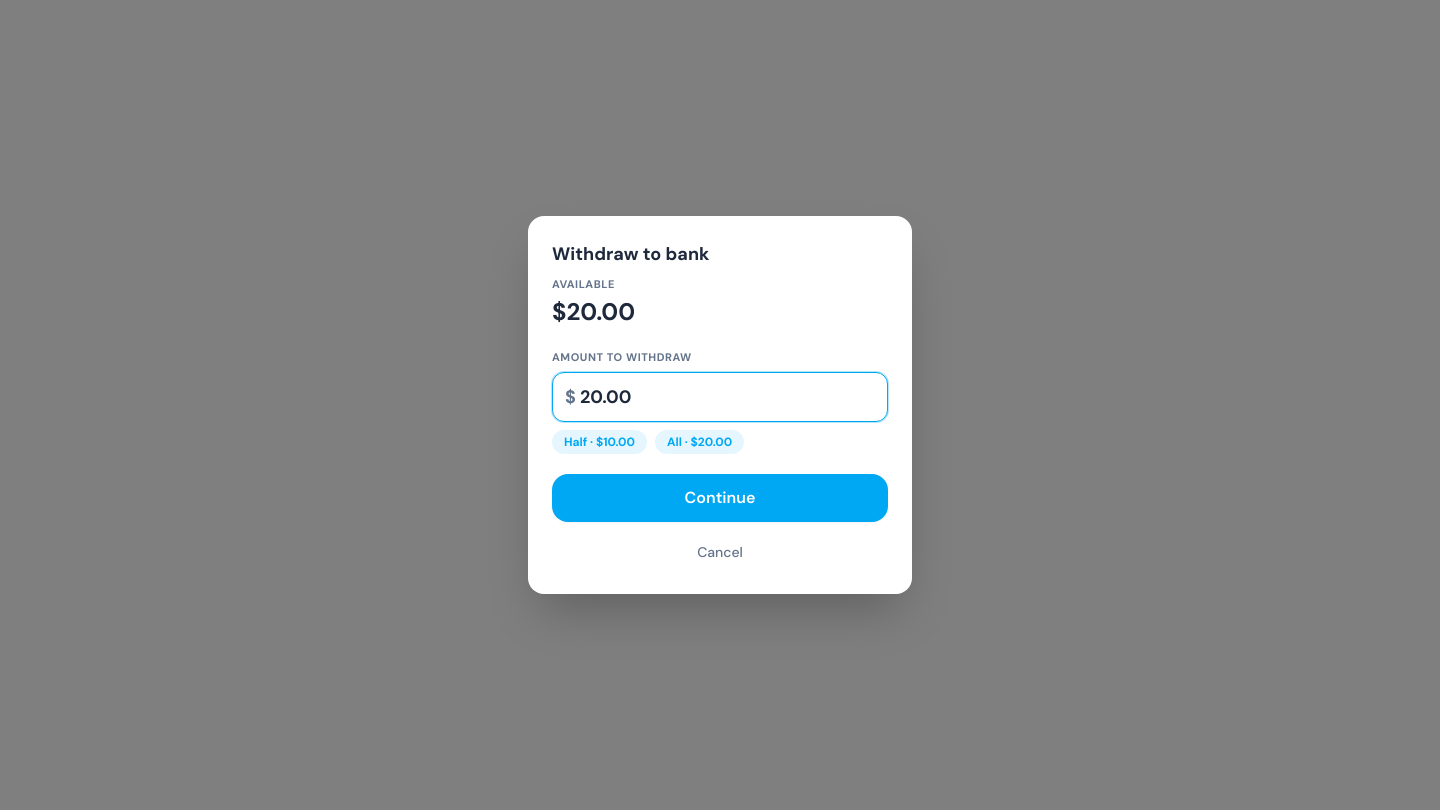
WithdrawSheet (F5) › Cancel inside the confirm dialog leaves the sheet open without firing /withdraw
Click the button with test id "withdraw-sheet-confirm".
click(720, 498)  # box [552,474,888,522]
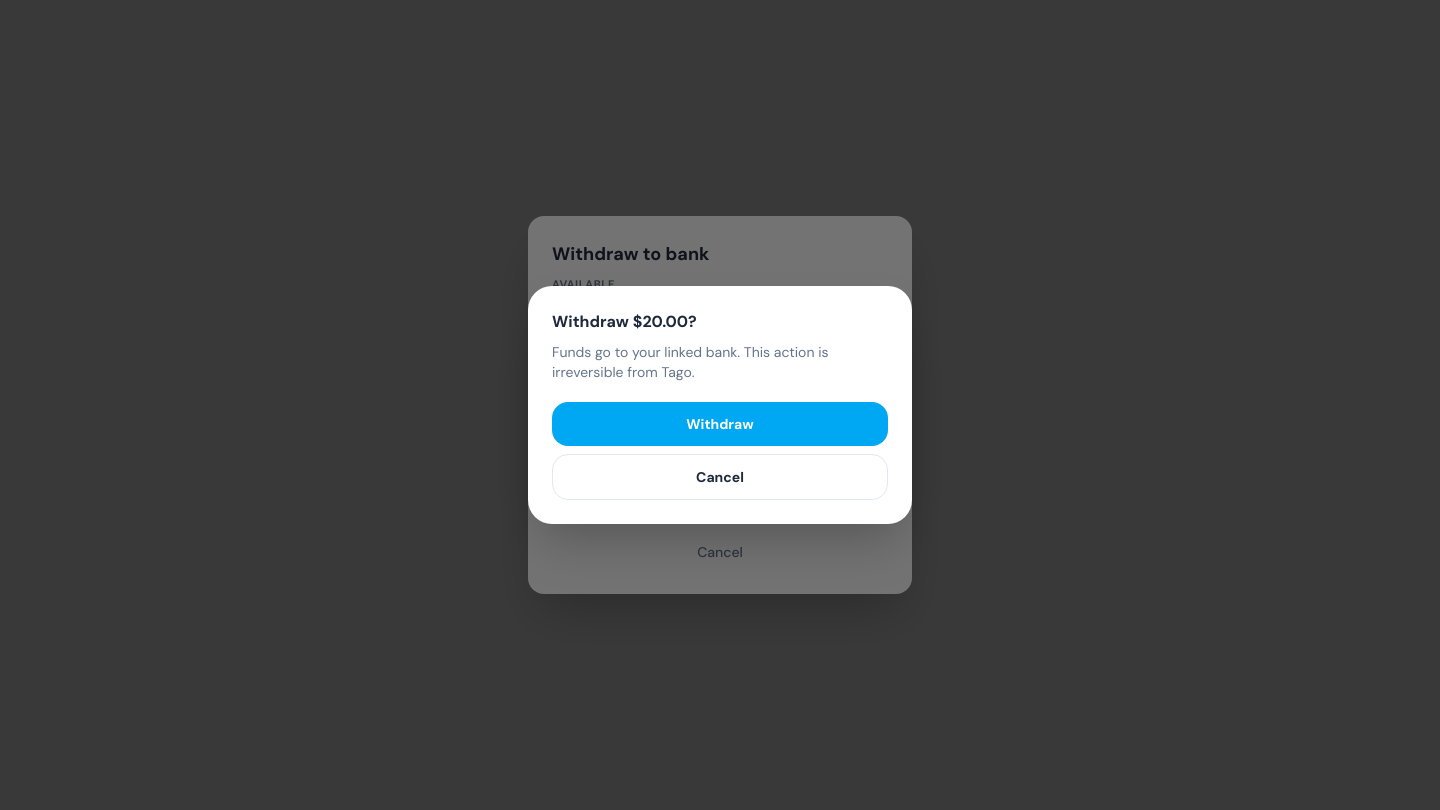
Expected: the dialog with test id "withdraw-confirm-dialog" is shown
Click the button with test id "withdraw-confirm-cancel".
click(720, 477)  # box [552,454,888,500]
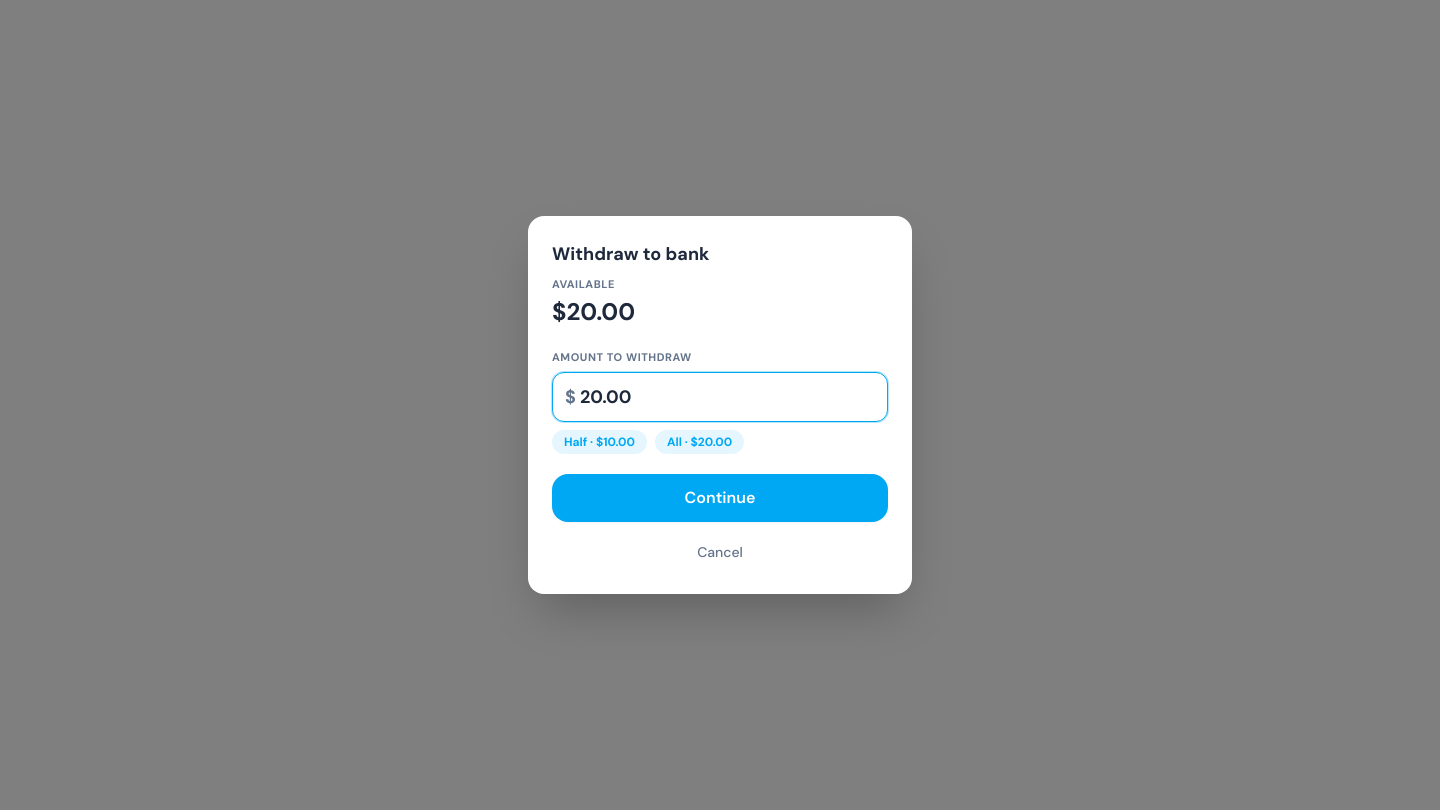
Expected: the dialog with test id "withdraw-confirm-dialog" is gone
